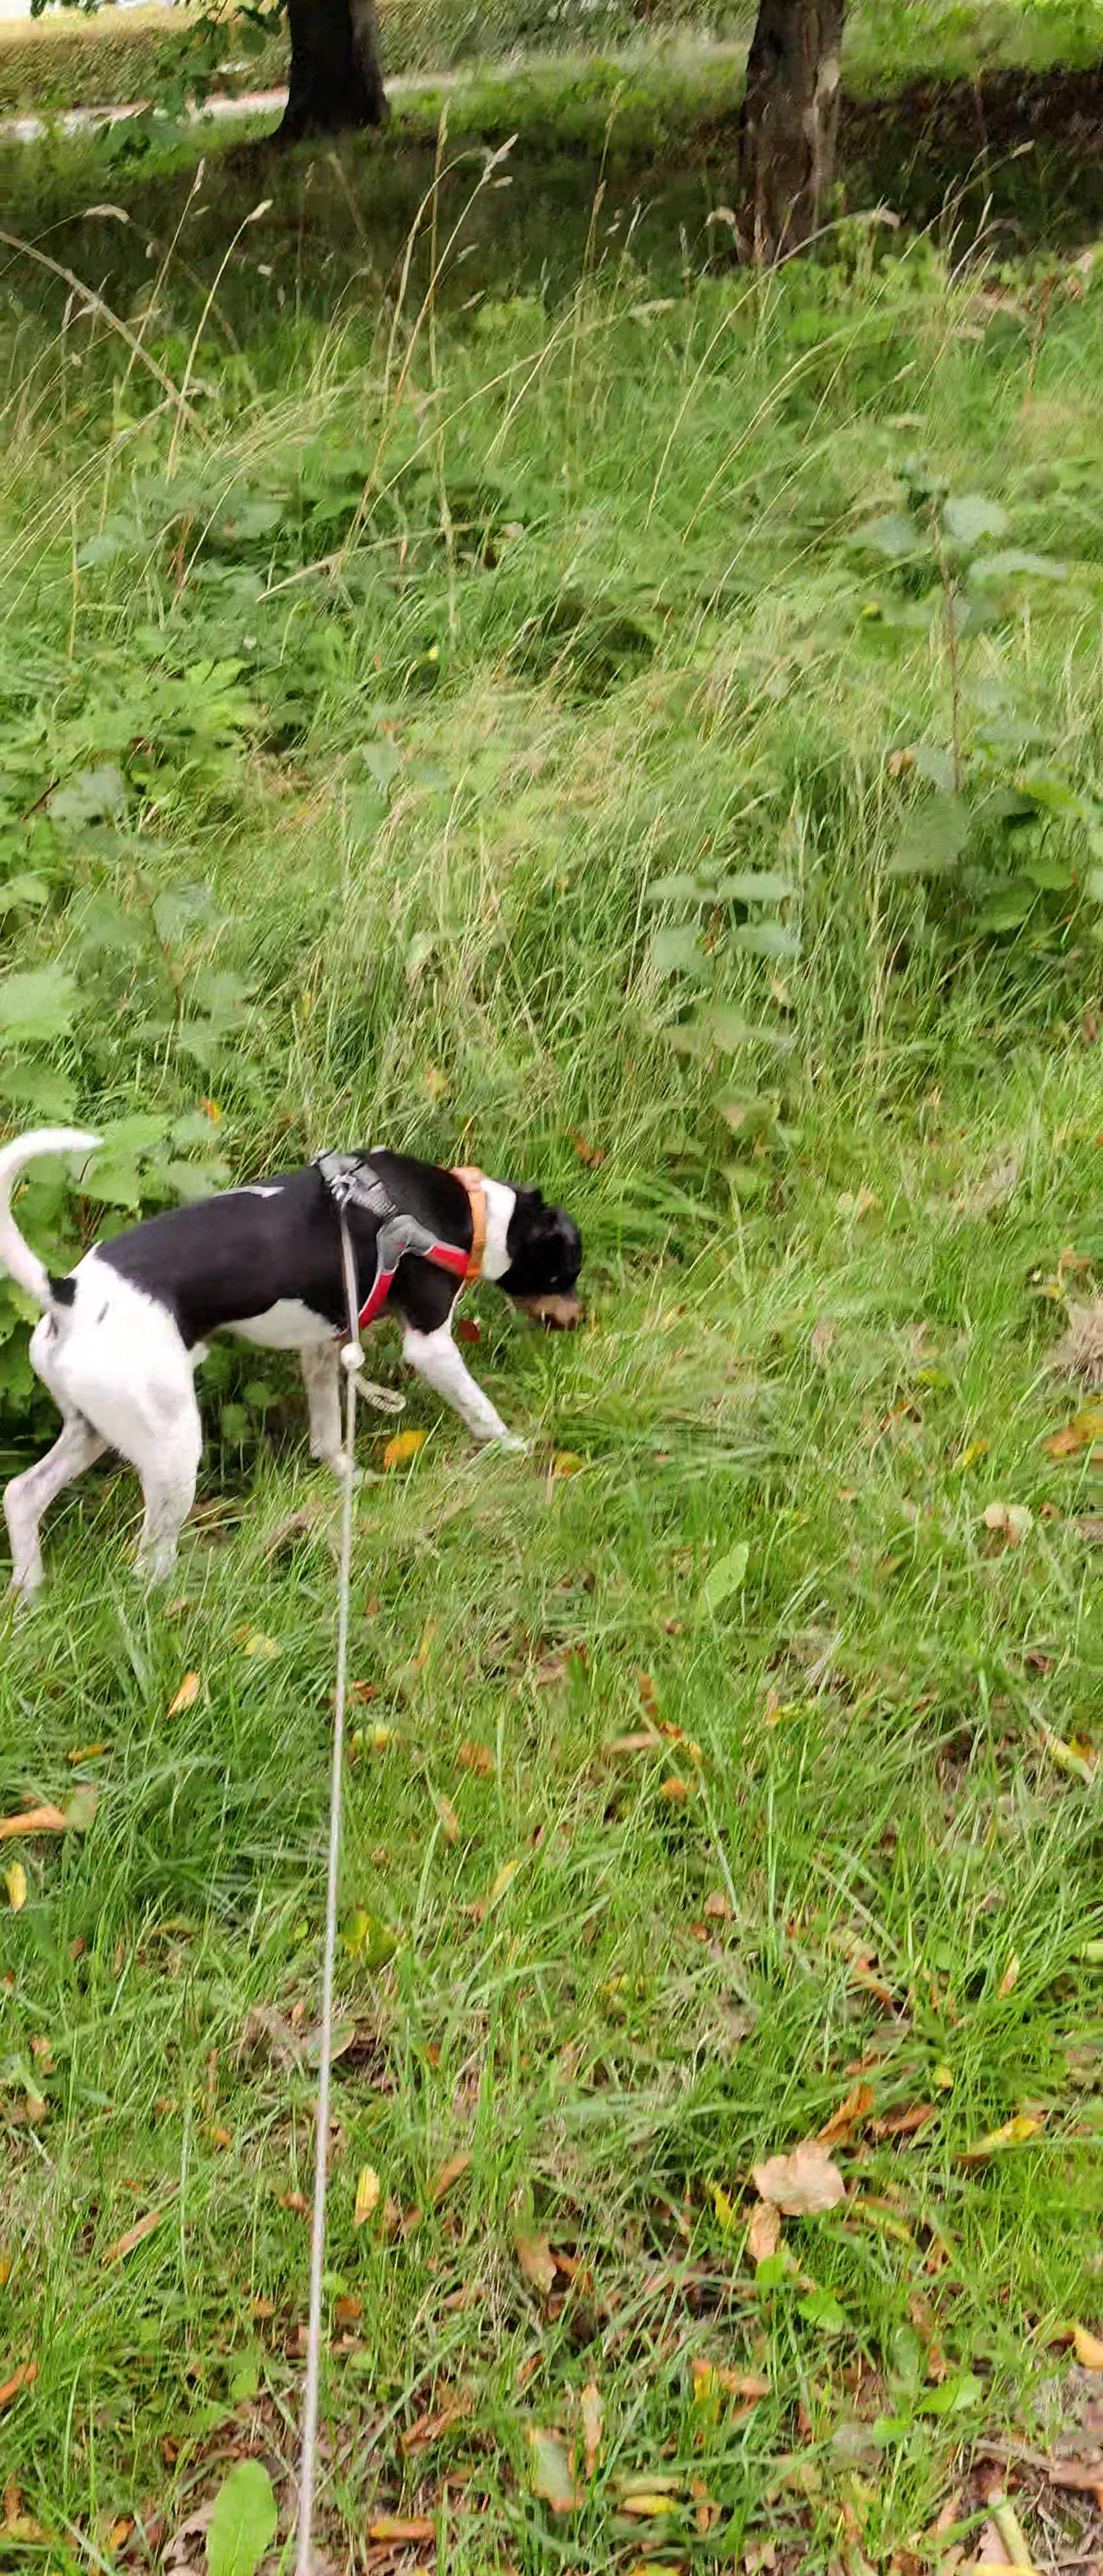Dog: (0, 1112, 595, 1603)
